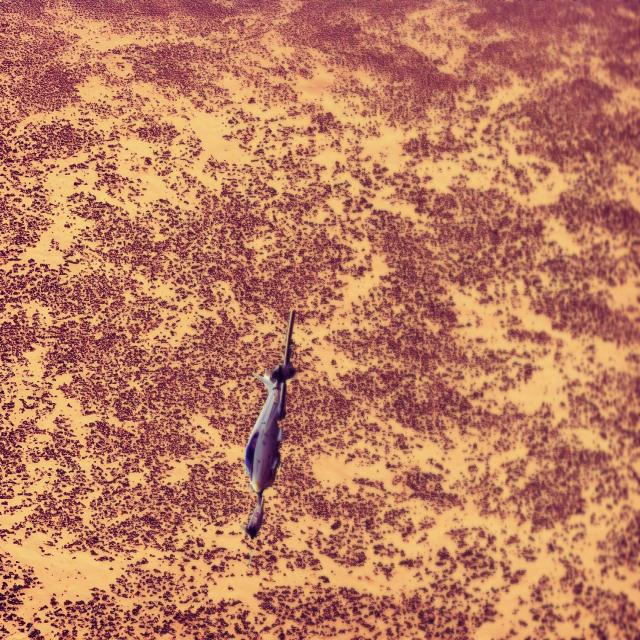airplane: (243, 307, 297, 538)
